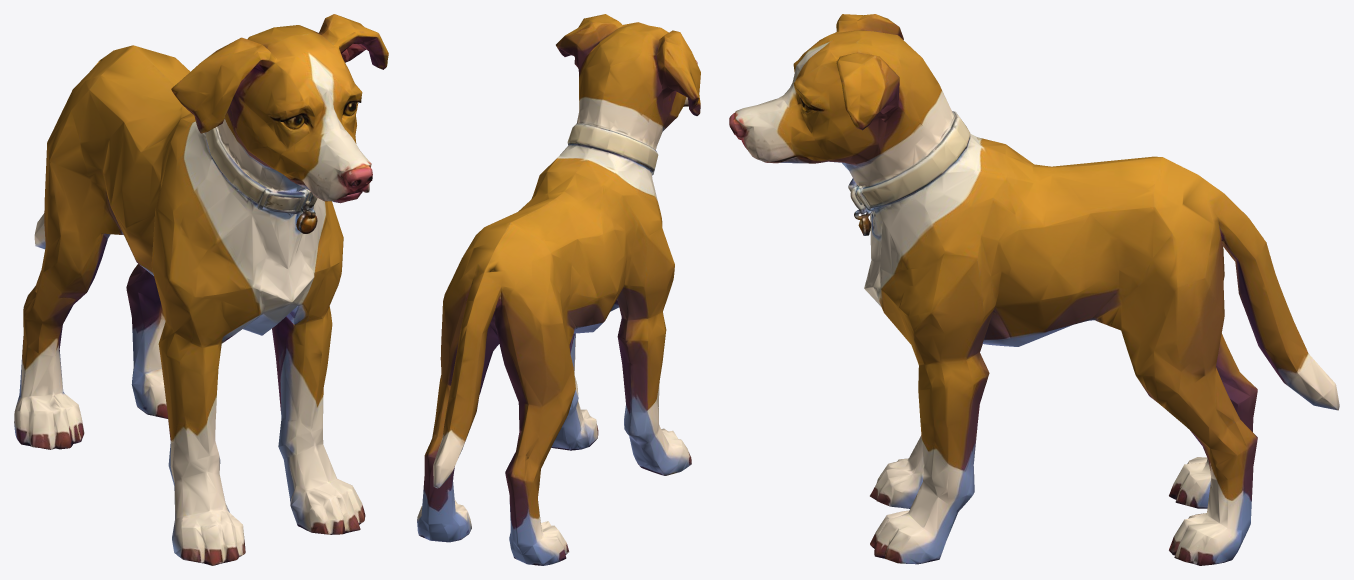
Rendered from remy-roo.glb.
3 views of the same model, side by side, from view 1: azimuth 30°, elevation 25°; view 2: azimuth 150°, elevation 25°; view 3: azimuth 270°, elevation 25° (orthographic). The views are drawn at different scales.
Parts seen in each view (by area): view 1: node_0; view 2: node_0; view 3: node_0.
Boxes of the visible parts, <box> form: node_0: <box>14,14,388,565</box>; node_0: <box>417,14,700,565</box>; node_0: <box>729,14,1339,565</box>.
Size of the model in its own units: 0.3612 by 0.9189 by 1.04.
Materials: 1 (1 with a texture image).
